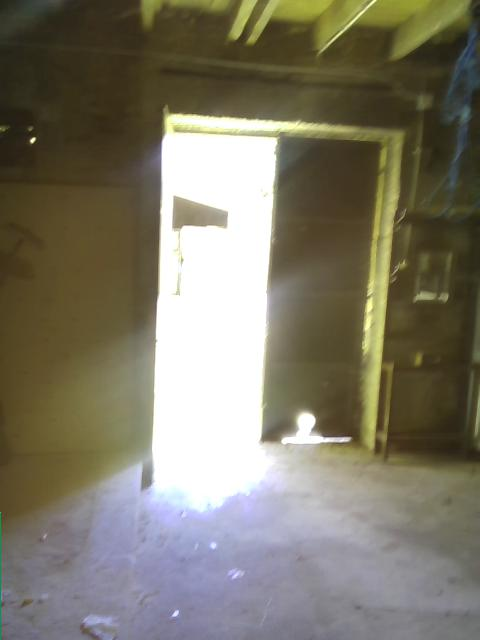open_door: (146, 107, 278, 483)
